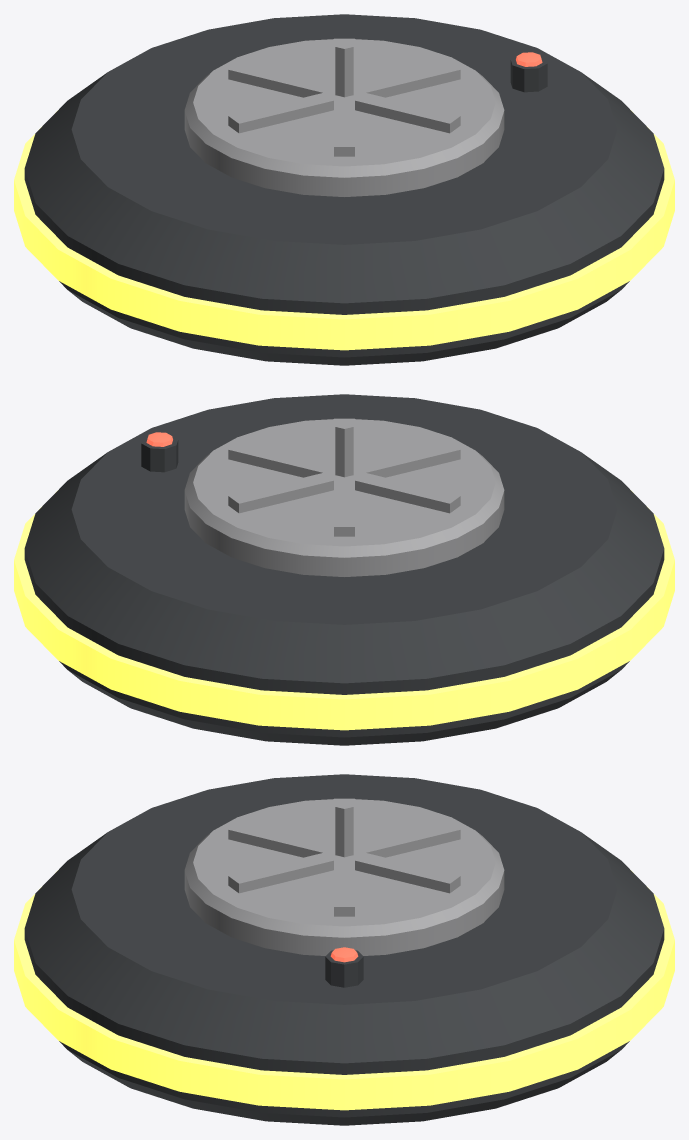
Rendered from pressure_mine.glb.
3 renders of one model, top to bottom at view 1: azimuth 30°, elevation 25°; view 2: azimuth 150°, elevation 25°; view 3: azimuth 270°, elevation 25°, orthographic.
Parts seen in each view (by area): view 1: pressure_mine; view 2: pressure_mine; view 3: pressure_mine.
Part boxes in pixels (<box>): pressure_mine: <box>14,14,674,365</box>; pressure_mine: <box>14,394,674,745</box>; pressure_mine: <box>14,774,674,1125</box>.
Size of the model in its own units: 0.31 by 0.1 by 0.31.
